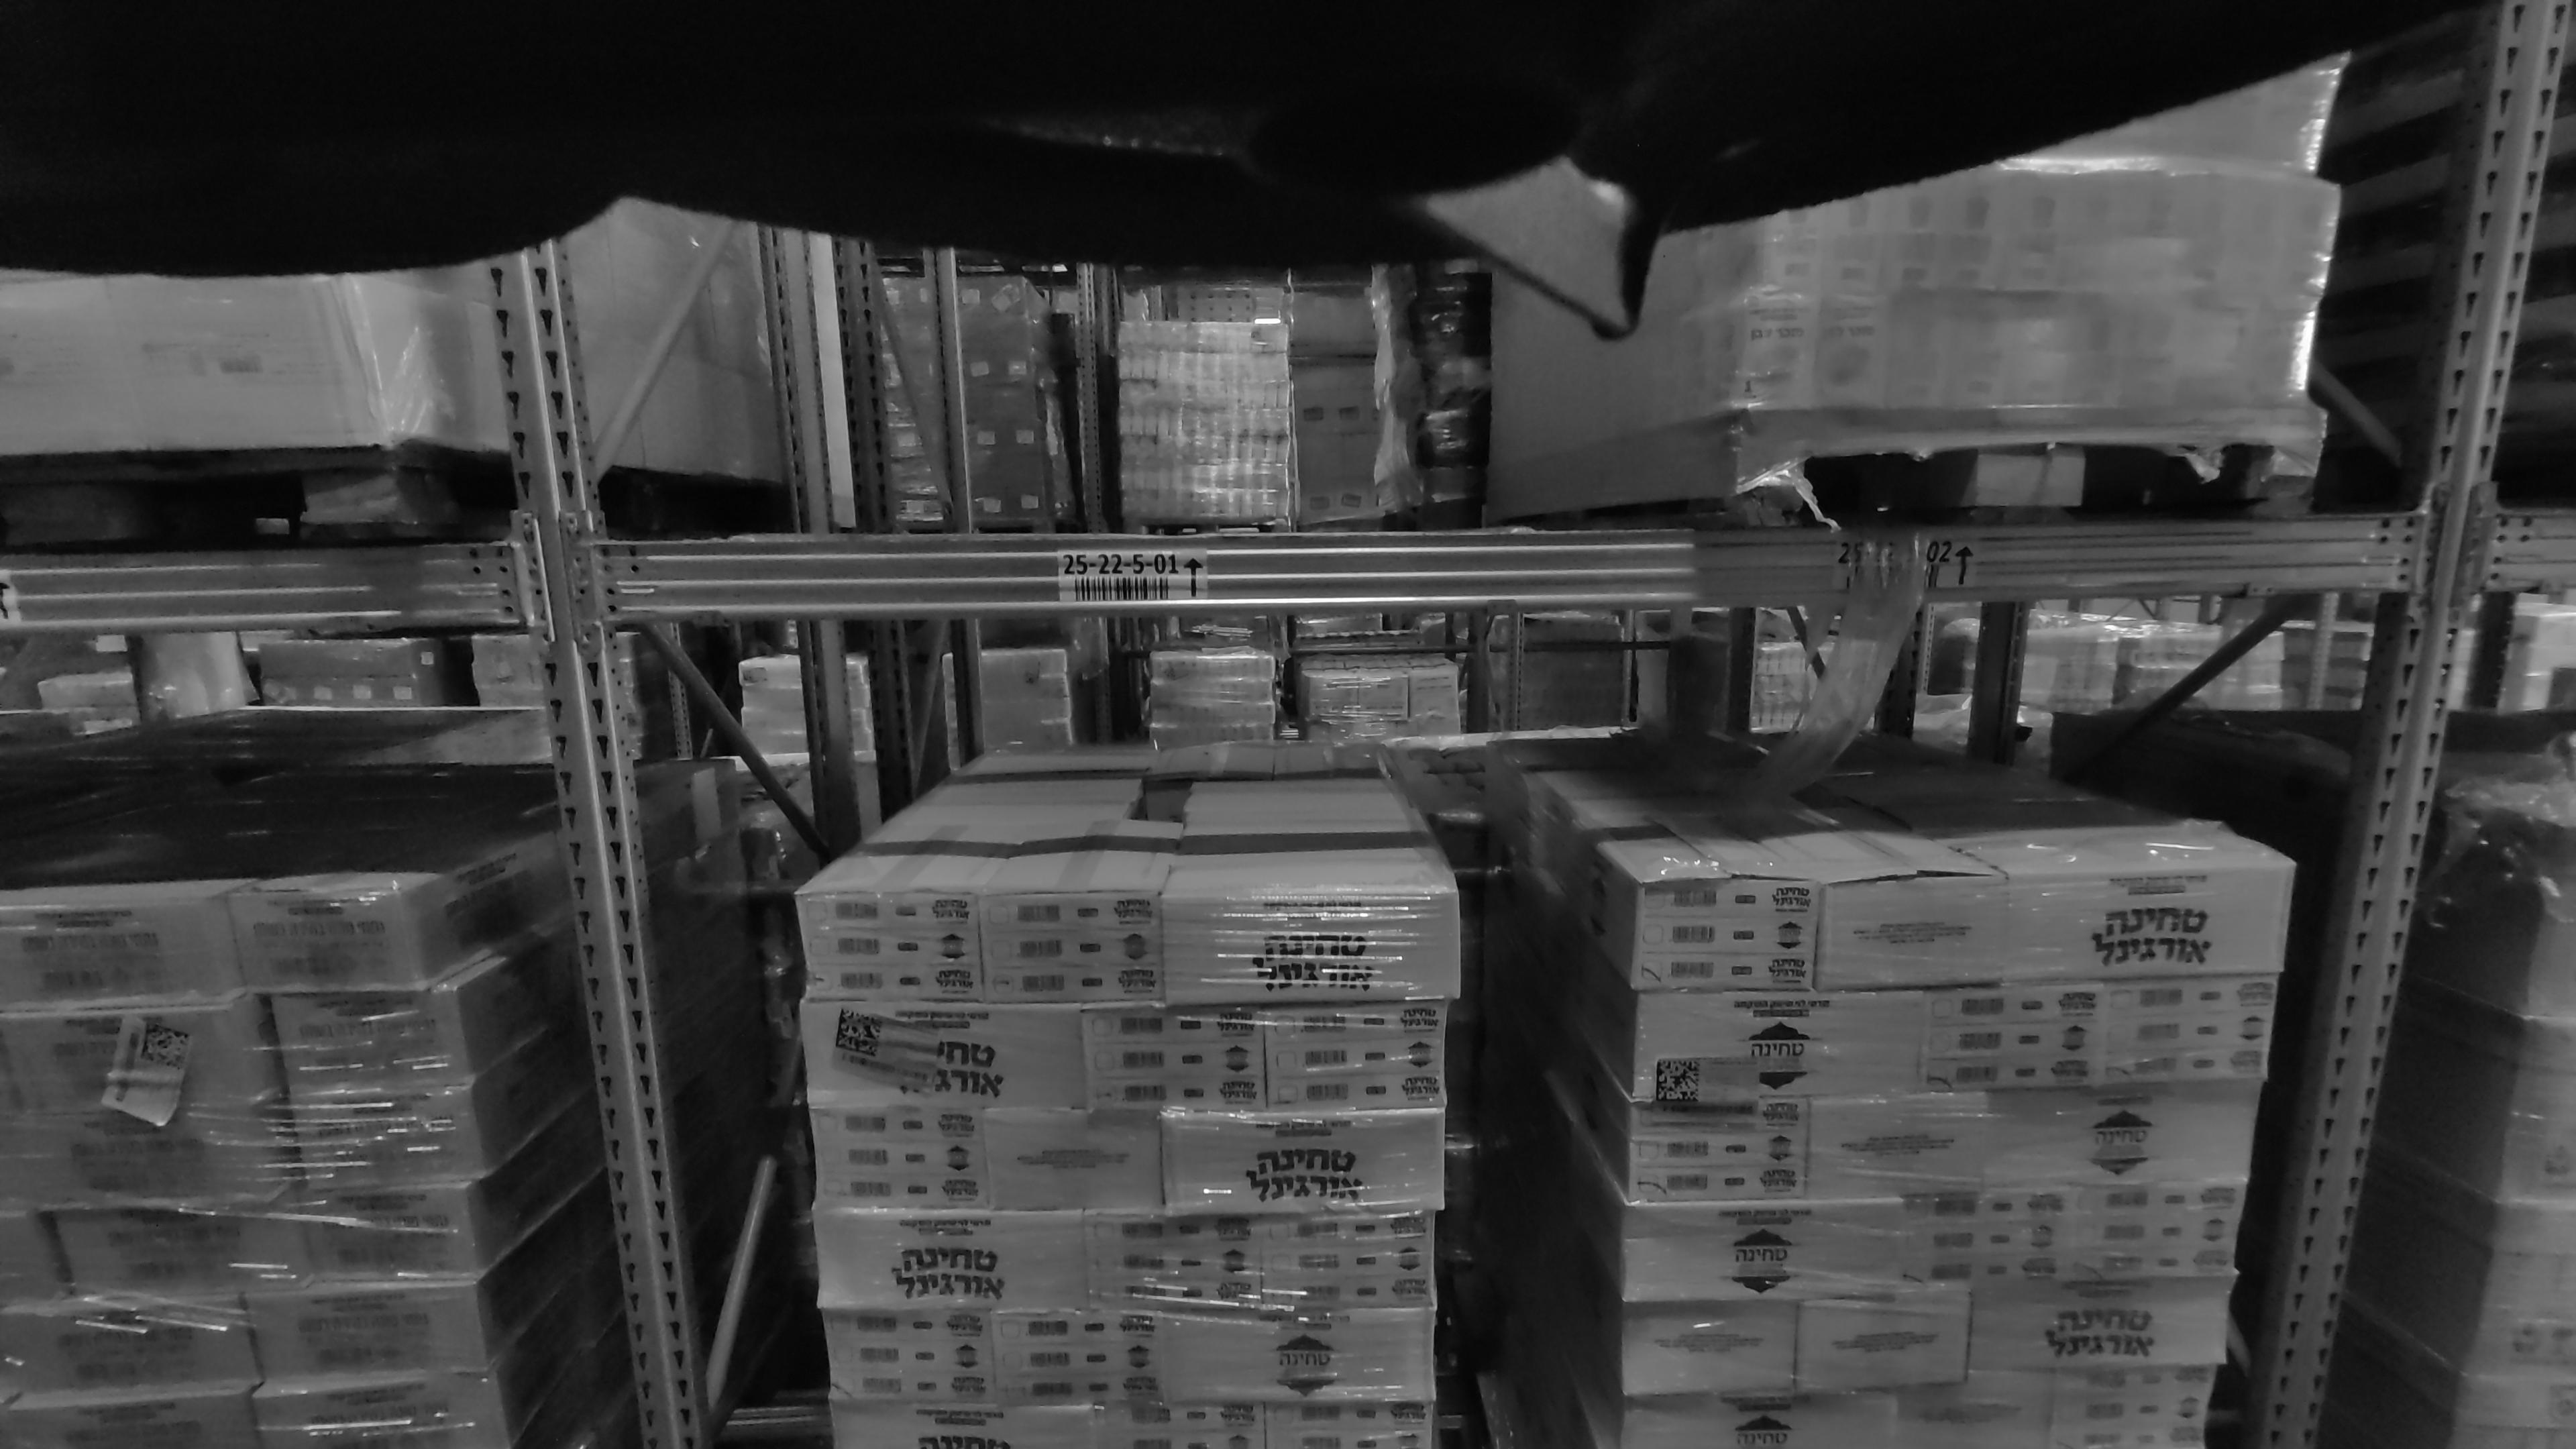empty-shelf: (655, 226, 1431, 541)
